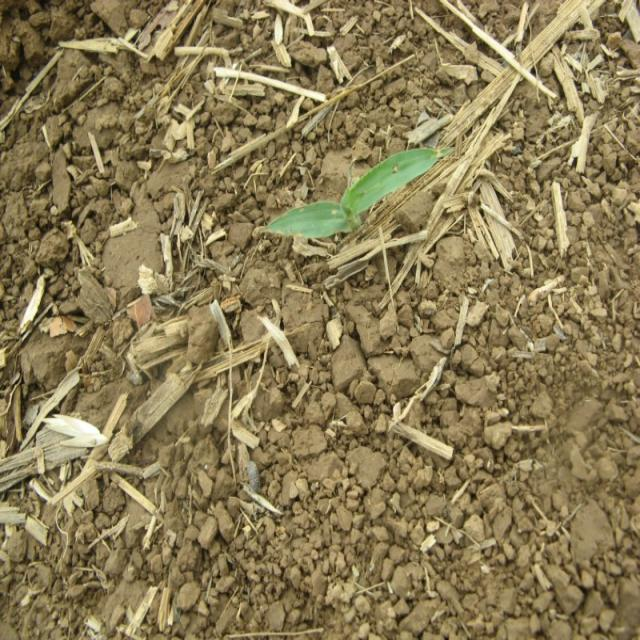bg: (265, 139, 440, 248)
